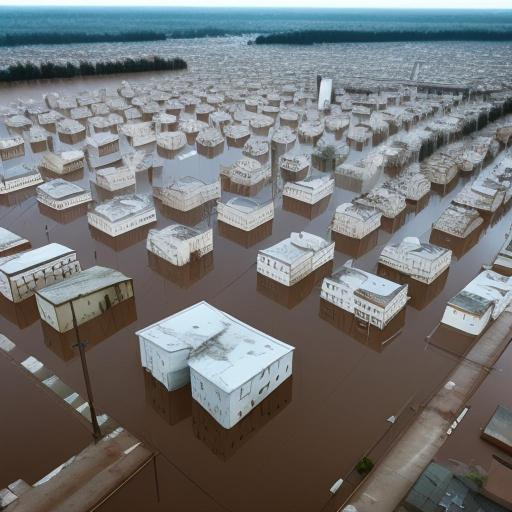house: (141, 294, 295, 442), (318, 260, 410, 342), (40, 264, 136, 330), (256, 226, 336, 300), (3, 239, 79, 304), (379, 235, 457, 288), (89, 192, 158, 248), (147, 220, 216, 273), (154, 175, 222, 221), (219, 188, 276, 241), (36, 178, 94, 226), (330, 200, 384, 248), (439, 294, 495, 336), (285, 174, 335, 216), (480, 455, 512, 512), (224, 157, 272, 187), (44, 147, 83, 177), (196, 125, 226, 160), (98, 164, 136, 191), (425, 156, 458, 186), (55, 118, 85, 148), (345, 122, 373, 152), (94, 131, 122, 159), (157, 128, 186, 154), (224, 124, 254, 148), (2, 136, 26, 164), (383, 144, 406, 172), (248, 114, 275, 136), (207, 109, 233, 129)
